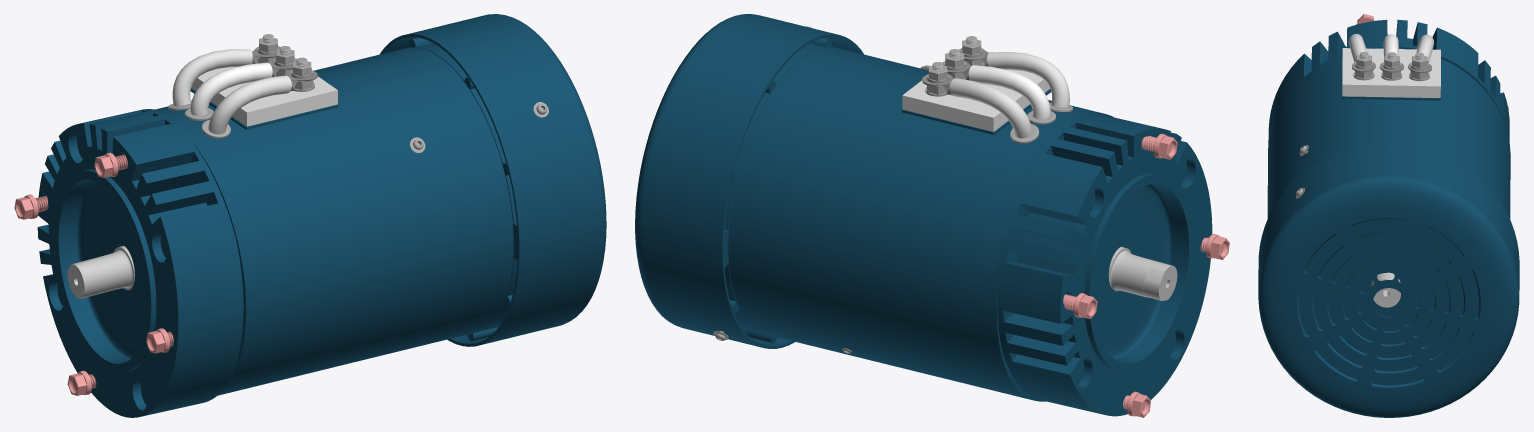
The model's file is ac-09_induction_motor.glb.
3 views of the same model, side by side, from view 1: azimuth 30°, elevation 25°; view 2: azimuth 150°, elevation 25°; view 3: azimuth 270°, elevation 25° (orthographic). The views are drawn at different scales.
Parts seen in each view (by area): view 1: Cylinder_7, Cylinder.001_8, Cylinder.002_9, Cube_6, Cylinder.003_10, BezierCurve.001_1, BezierCurve.002_2, BezierCurve_0, Body13.003_19, Body13.006_21, bullone triangolo ammo (1) (2) (1).002_4, Body13.004_20 (+1 smaller); view 2: Cylinder_7, Cylinder.001_8, Cylinder.002_9, Cube_6, Cylinder.003_10, BezierCurve.002_2, BezierCurve.001_1, BezierCurve_0, Body13.006_21, Body13.003_19, bullone triangolo ammo (1) (2) (1).001_3, Body13.005_22 (+1 smaller); view 3: Cylinder.002_9, Cylinder_7, Cylinder.001_8, Cube_6, Cylinder.003_10, bullone triangolo ammo (1) (2) (1).002_4, bullone triangolo ammo (1) (2) (1).001_3, bullone triangolo ammo (1) (2) (1).003_5, BezierCurve.001_1, BezierCurve.002_2, BezierCurve_0.
Part boxes in pixels (x1,y1,x2,y2): Cylinder_7: (155,37,517,395); Cylinder.001_8: (37,109,243,417); Cylinder.002_9: (379,14,606,346); Cube_6: (191,67,337,126); Cylinder.003_10: (67,245,134,298); BezierCurve.001_1: (208,75,291,134); BezierCurve.002_2: (172,49,252,105); BezierCurve_0: (190,62,272,115); Body13.003_19: (14,194,48,219); Body13.006_21: (94,152,127,177); bullone triangolo ammo (1) (2) (1).002_4: (291,57,314,91); Body13.004_20: (67,370,96,395); Cylinder_7: (724,38,1113,401); Cylinder.001_8: (996,114,1212,416); Cylinder.002_9: (635,14,863,348); Cube_6: (902,69,1049,131); Cylinder.003_10: (1108,246,1177,300); BezierCurve.002_2: (949,78,1032,138); BezierCurve.001_1: (987,52,1069,107); BezierCurve_0: (968,65,1050,119); Body13.006_21: (1141,133,1177,159); Body13.003_19: (1063,293,1097,319); bullone triangolo ammo (1) (2) (1).001_3: (925,62,948,96); Body13.005_22: (1200,234,1229,259); Cylinder.002_9: (1258,143,1519,417); Cylinder_7: (1267,47,1510,385); Cylinder.001_8: (1268,19,1509,144); Cube_6: (1342,48,1440,97); Cylinder.003_10: (1371,272,1400,307); bullone triangolo ammo (1) (2) (1).002_4: (1353,52,1374,80); bullone triangolo ammo (1) (2) (1).001_3: (1409,52,1430,81); bullone triangolo ammo (1) (2) (1).003_5: (1381,52,1402,80); BezierCurve.001_1: (1348,34,1366,62); BezierCurve.002_2: (1416,34,1434,63); BezierCurve_0: (1383,34,1398,61).
Bounding box in the file's own units: 0.6039 × 0.4056 × 0.3572.
